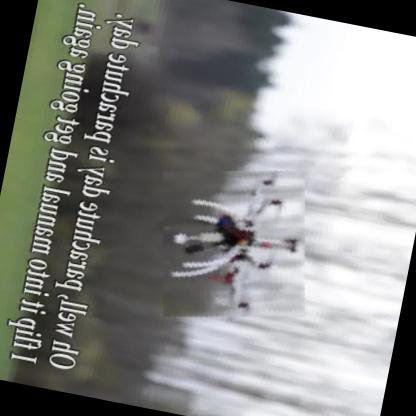drone: (141, 151, 323, 336)
